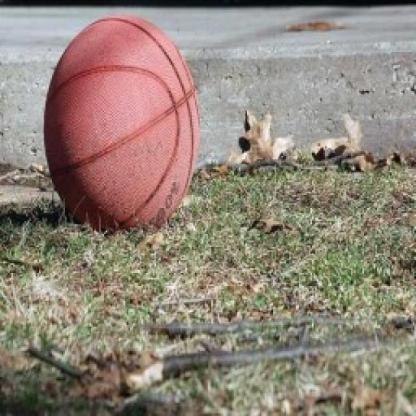basketball: (40, 11, 206, 237)
